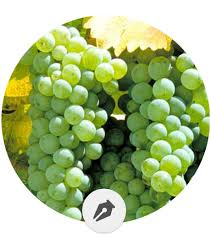Green grapes: (24, 34, 102, 220), (110, 48, 203, 197)
